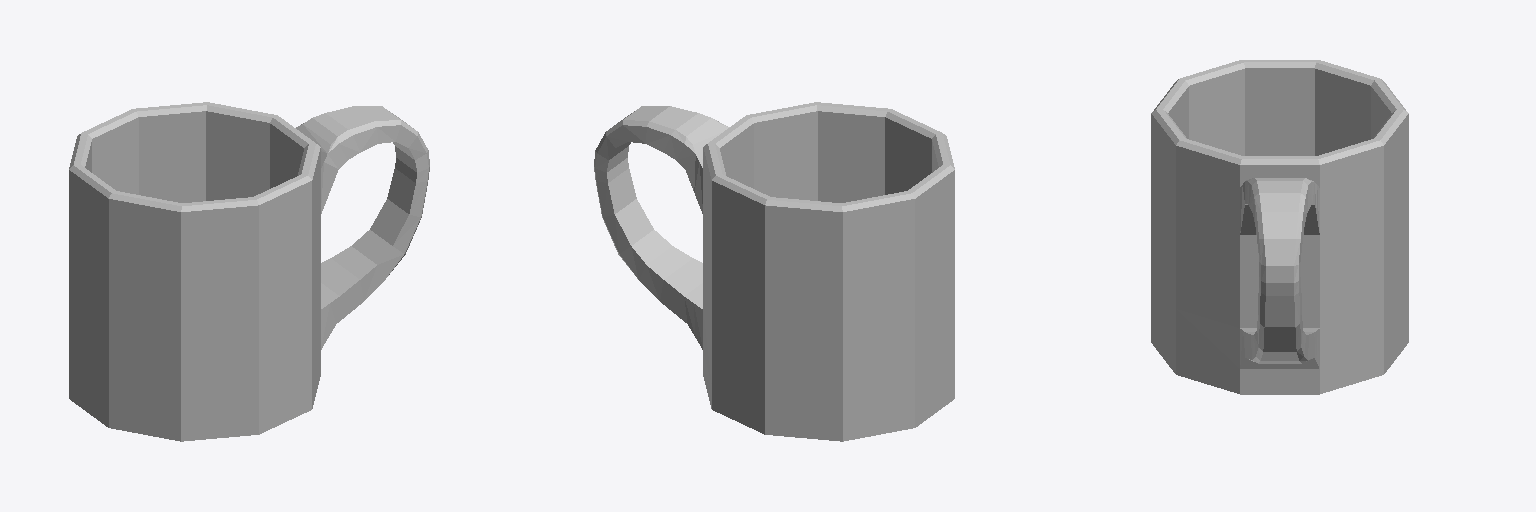
File: Mug.obj
The picture shows the model from 3 angles: view 1: azimuth 30°, elevation 25°; view 2: azimuth 150°, elevation 25°; view 3: azimuth 270°, elevation 25°; orthographic projection.
Parts seen in each view (by area): view 1: Cylinder; view 2: Cylinder; view 3: Cylinder.
Boxes of the visible parts, x1=… form: Cylinder: x1=69, y1=102, x2=429, y2=441; Cylinder: x1=594, y1=102, x2=954, y2=441; Cylinder: x1=1151, y1=60, x2=1408, y2=394.
Size of the model in its own units: 0.2349 by 0.1566 by 0.1566.